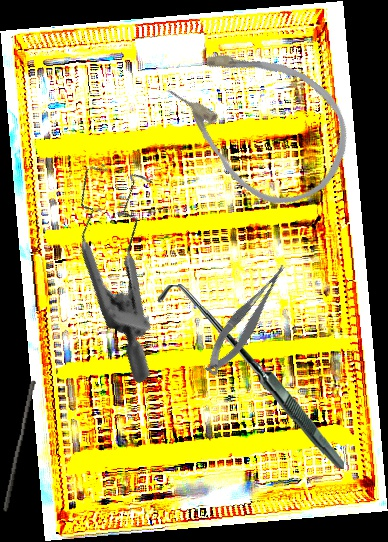Cannula: (147, 14, 373, 227)
Hook Surgical: (157, 278, 345, 476)
Micro Scissor: (194, 260, 301, 380)
Pusher: (2, 378, 37, 514)
Speculum: (11, 142, 247, 385)
